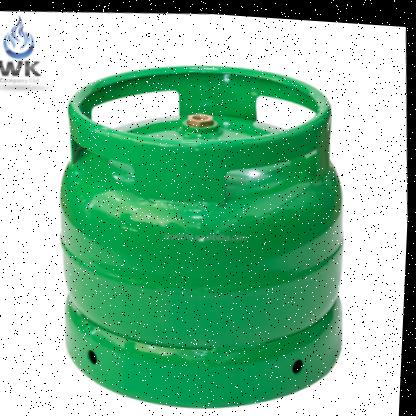gas-tank: (27, 42, 394, 415)
